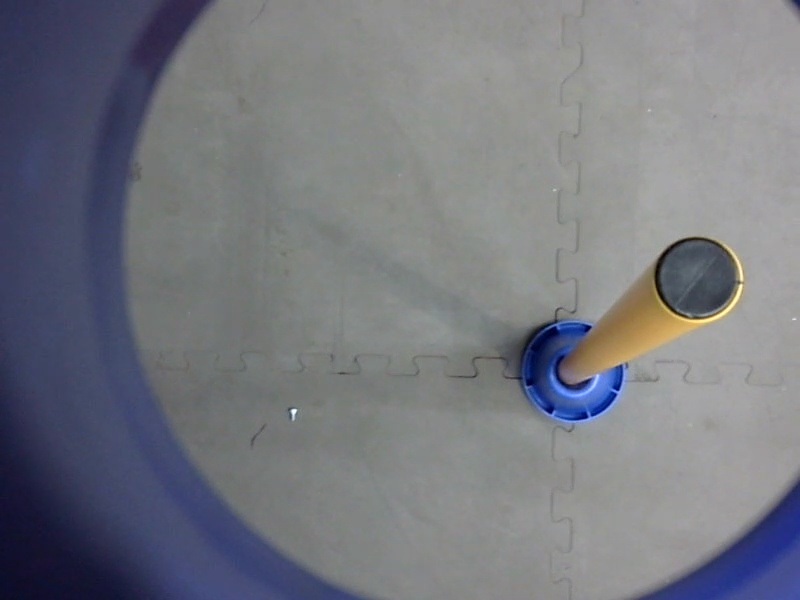tip: (645, 230, 751, 328)
